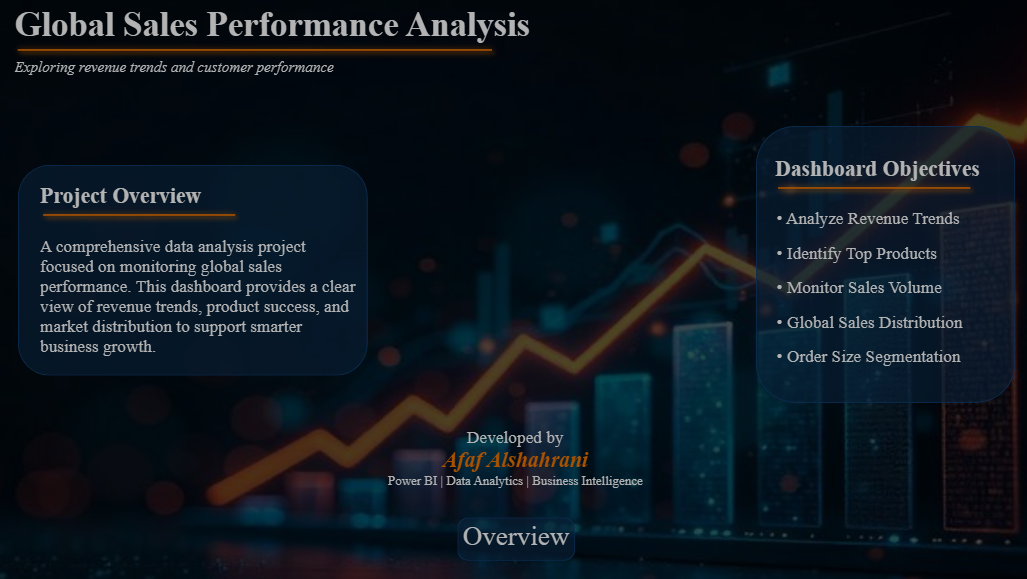

Layout of this report page (visuals, bound fields, positions):
{"tool":"powerbi","page":{"name":"Home_Page","canvas":[1280,720],"ordinal":0},"visuals":[{"type":"shape","box":[936.7,155,320,341.7],"z":0},{"type":"shape","box":[568.3,638.3,145,53.3],"z":1000},{"type":"textbox","box":[16.7,0,918.3,123.3],"z":2000},{"type":"actionButton","title":"Overview","box":[566.7,643.3,148.3,41.7],"z":3000},{"type":"shape","box":[16.7,0,603.3,123.3],"z":4000},{"type":"shape","box":[956.1,170.5,255,123.3],"z":5000},{"type":"textbox","box":[956.1,187.2,280,45],"z":6000},{"type":"textbox","box":[956.7,251.7,280,216.7],"z":7000},{"type":"textbox","box":[440,521.7,398.3,98.3],"z":8000},{"type":"shape","box":[25.7,203.3,431.7,260],"z":9000},{"type":"shape","box":[48.5,203.6,255,123.3],"z":10000},{"type":"textbox","box":[48.5,220.2,280,45],"z":11000},{"type":"textbox","box":[49,286.7,408.3,171.7],"z":12000}]}

Visuals, with their boxes in screenshot pixels (x1, y1, x2, y2), scaled from the page's 1280x720 canvas onto the 1027x579 screenshot:
shape: <box>752,125,1008,399</box>
shape: <box>456,513,572,556</box>
textbox: <box>13,0,750,99</box>
"Overview" actionButton: <box>455,517,574,551</box>
shape: <box>13,0,497,99</box>
shape: <box>767,137,972,236</box>
textbox: <box>767,151,992,187</box>
textbox: <box>768,202,992,377</box>
textbox: <box>353,420,673,499</box>
shape: <box>21,163,367,373</box>
shape: <box>39,164,244,263</box>
textbox: <box>39,177,264,213</box>
textbox: <box>39,231,367,369</box>
